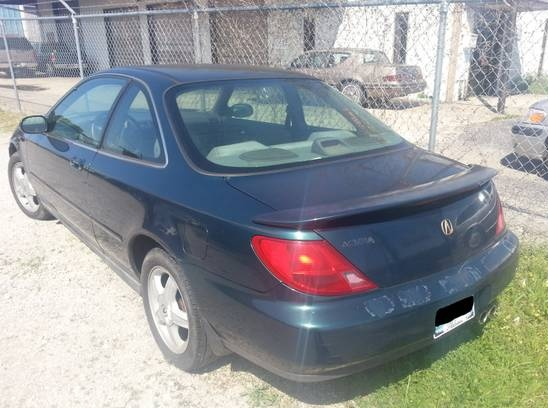acura: (3, 60, 525, 376)
